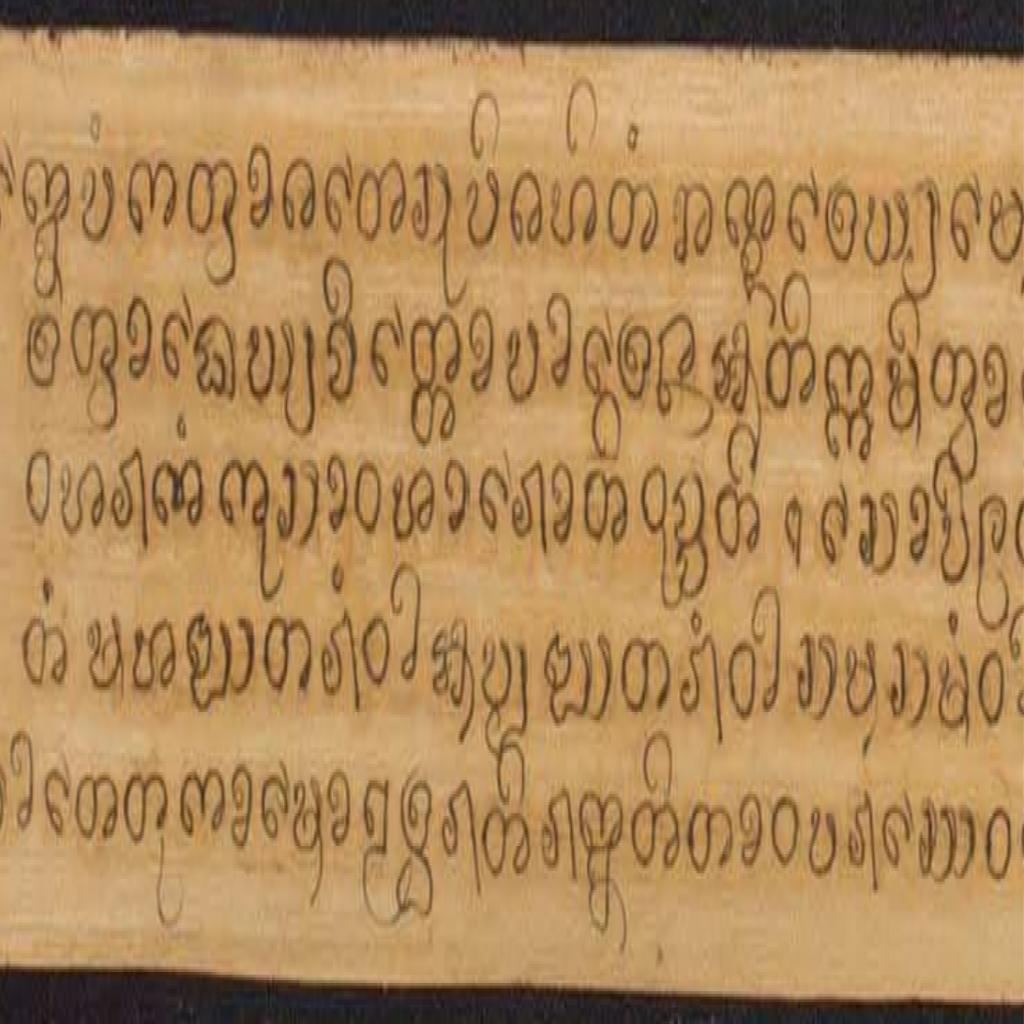LN004: (542, 623, 616, 734)
